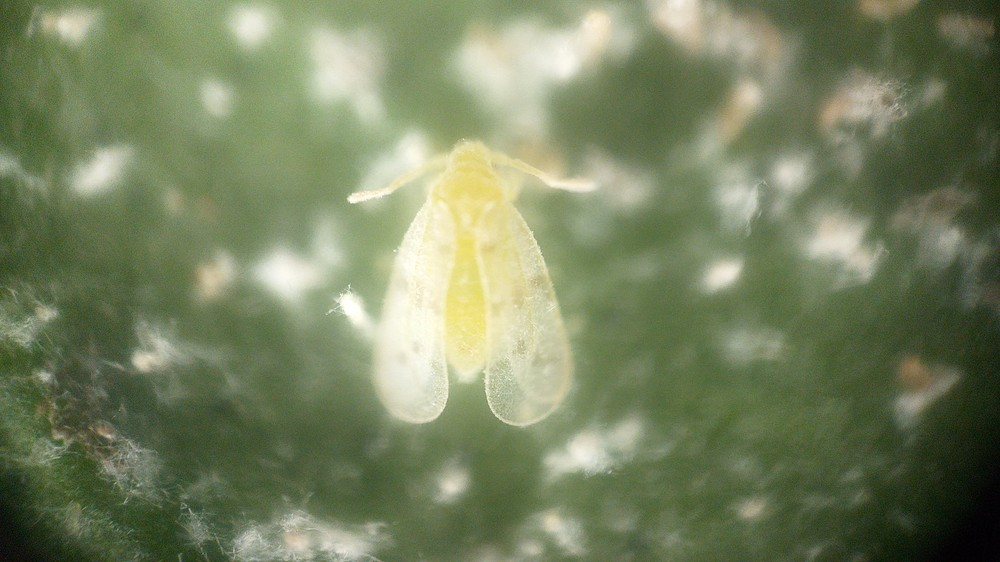Mosca Blanca: (343, 129, 616, 447)
